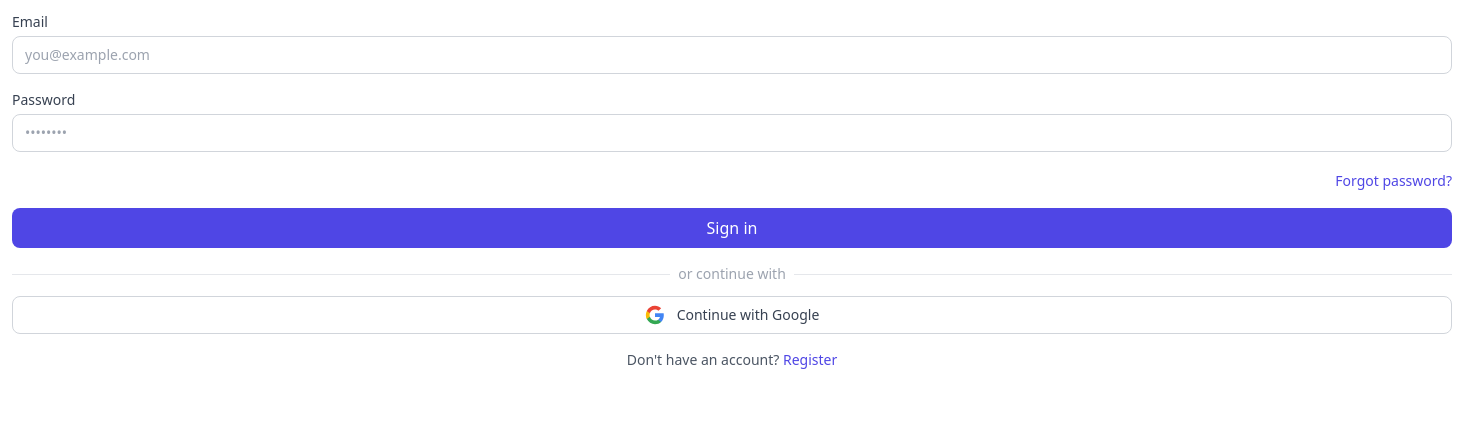
Scenario: LoginForm › shows validation errors when submitting empty form
Click the button "Sign in".
click(732, 228)  # box [12,208,1452,248]
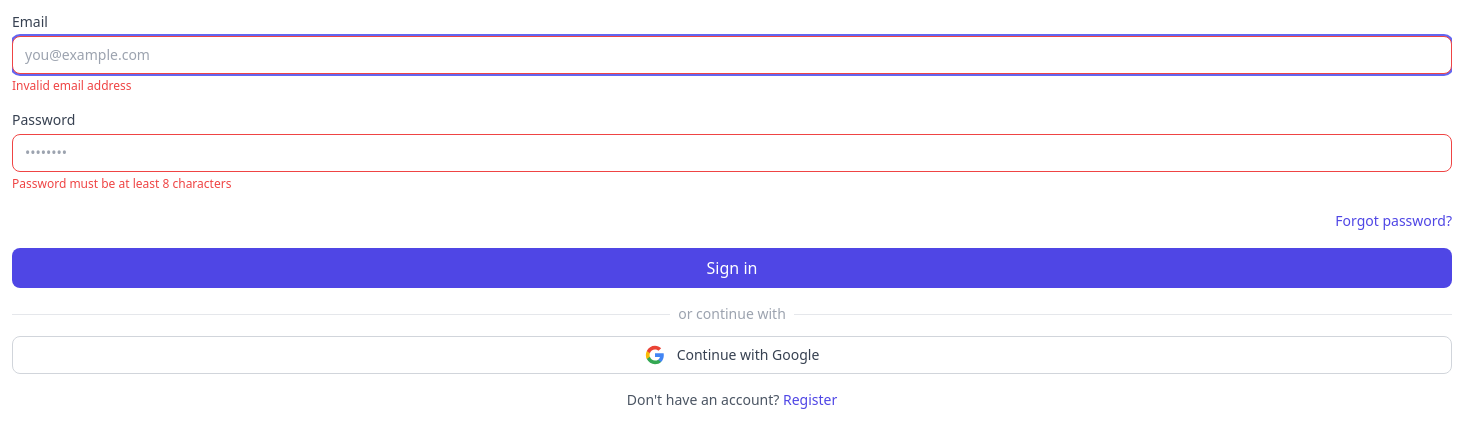
Expected: the text "Invalid email address" is shown, [12,77,132,94]
Expected: the text "Password must be at least 8 characters" is shown, [12,175,231,192]
